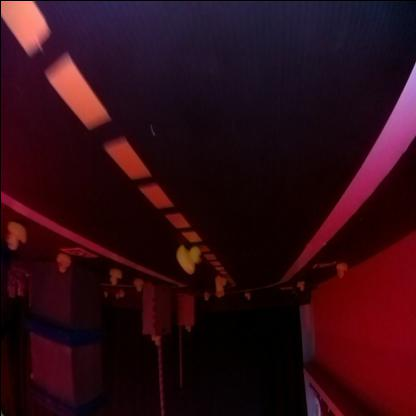Duckie: (176, 248, 199, 274), (4, 222, 24, 250), (55, 254, 70, 270), (108, 269, 121, 285), (214, 275, 223, 294), (336, 263, 346, 277), (132, 278, 142, 291), (297, 284, 302, 290)
QR code: (62, 248, 95, 258), (310, 261, 334, 268)
